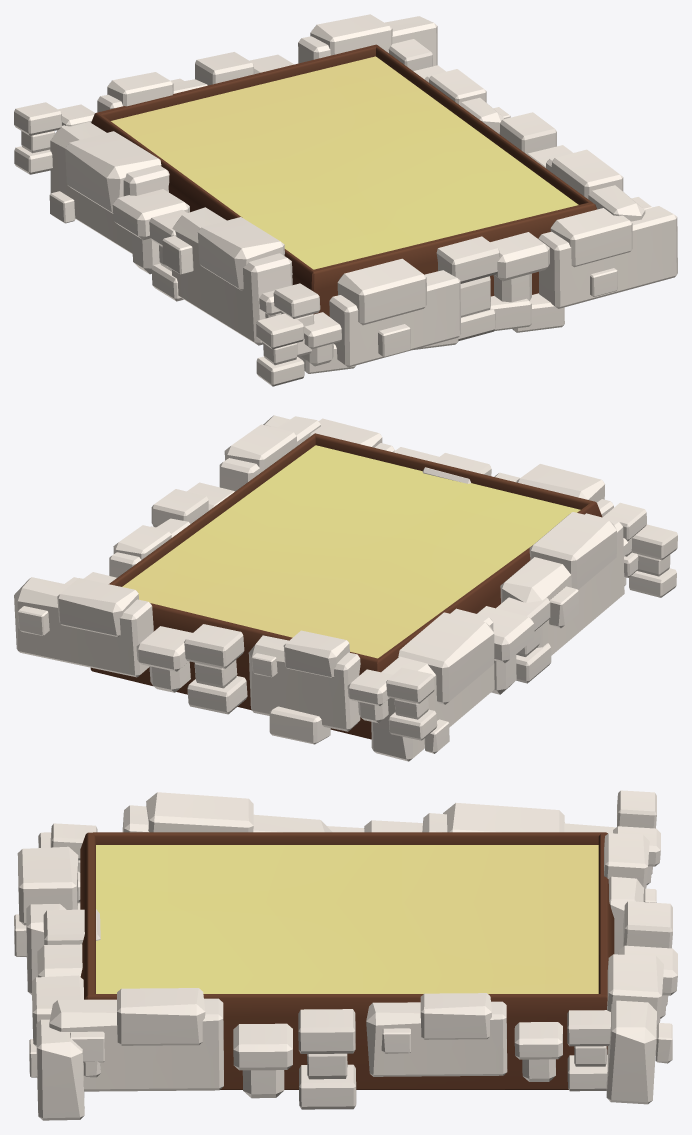
The model's file is Arena.fbx.
The picture shows the model from 3 angles, top to bottom: view 1: azimuth 30°, elevation 25°; view 2: azimuth 150°, elevation 25°; view 3: azimuth 270°, elevation 25°; orthographic projection. The views are drawn at different scales.
Parts seen in each view (by area): view 1: polySurface1330; view 2: polySurface1330; view 3: polySurface1330.
Part boxes in pixels (bbox=[...]): polySurface1330: bbox=[14, 14, 677, 386]; polySurface1330: bbox=[14, 415, 677, 761]; polySurface1330: bbox=[14, 790, 677, 1120].
Bounding box in the file's own units: 16.95 × 4.47 × 19.88.
Materials: 1 (1 with a texture image).
